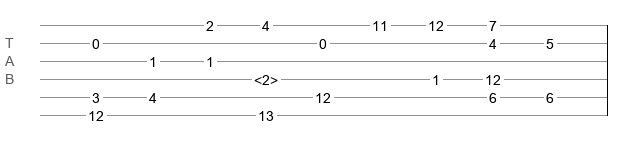0: (92, 36, 100, 46), (319, 36, 327, 46)
1: (149, 54, 157, 64), (206, 54, 214, 64), (432, 72, 440, 82)
11: (372, 18, 388, 28)
12: (88, 108, 104, 118), (315, 90, 331, 100), (428, 18, 444, 28), (485, 72, 501, 82)
13: (258, 108, 274, 118)
2: (206, 18, 214, 28)
3: (92, 90, 100, 100)
4: (149, 90, 157, 100), (262, 18, 270, 28), (489, 36, 497, 46)
5: (546, 36, 554, 46)
6: (489, 90, 497, 100), (546, 90, 554, 100)
7: (489, 18, 497, 28)
harmonic: (254, 72, 278, 82)
